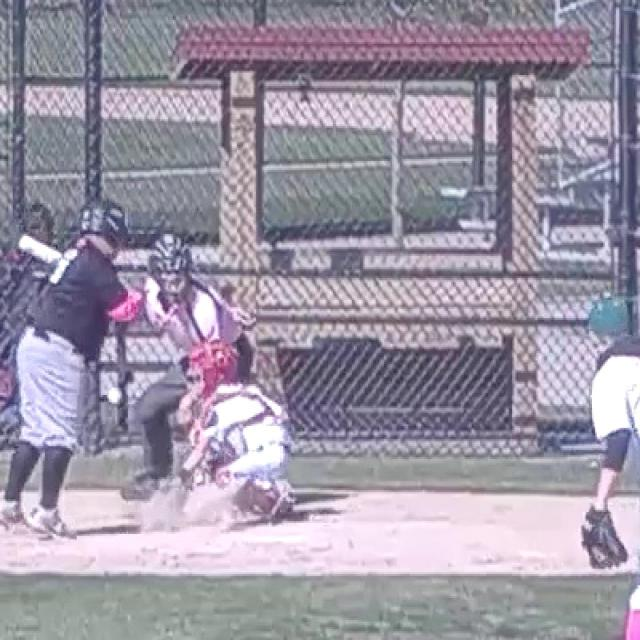baseball: (109, 390, 121, 402)
